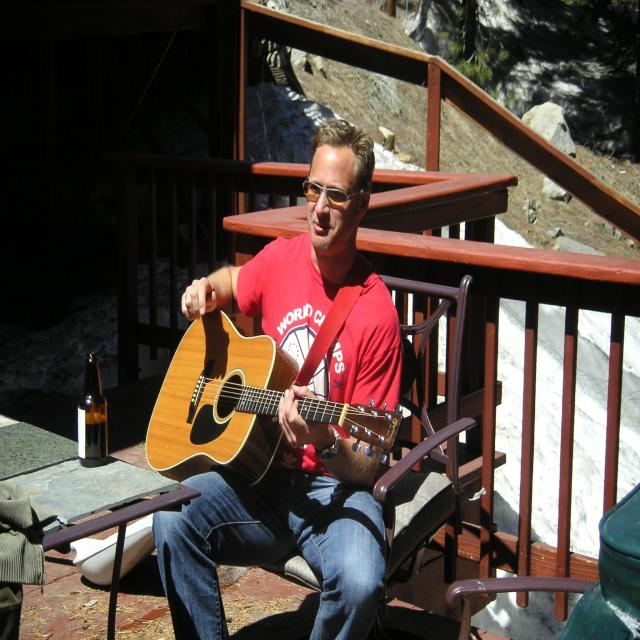guitar: (144, 306, 408, 492)
